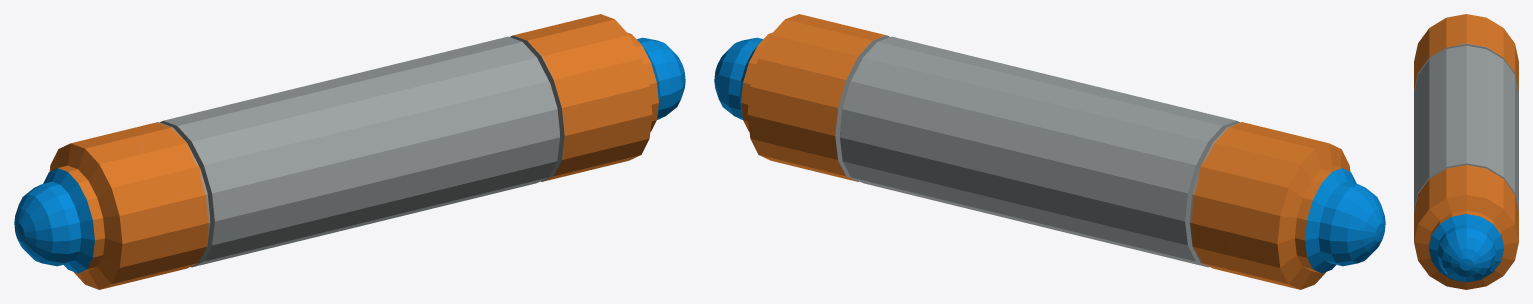
Rendered from Vaus.fbx.
3 views of the same model, side by side, from view 1: azimuth 30°, elevation 25°; view 2: azimuth 150°, elevation 25°; view 3: azimuth 270°, elevation 25° (orthographic). The views are drawn at different scales.
Visible parts, largest first — view 1: Vaus; view 2: Vaus; view 3: Vaus.
Part boxes in pixels (left/top/right/bottom): Vaus: left=14, top=14, right=685, bottom=289; Vaus: left=714, top=14, right=1385, bottom=289; Vaus: left=1414, top=14, right=1518, bottom=289.
Size of the model in its own units: 244 by 47.83 by 47.83.
Materials: 1 (1 with a texture image).
